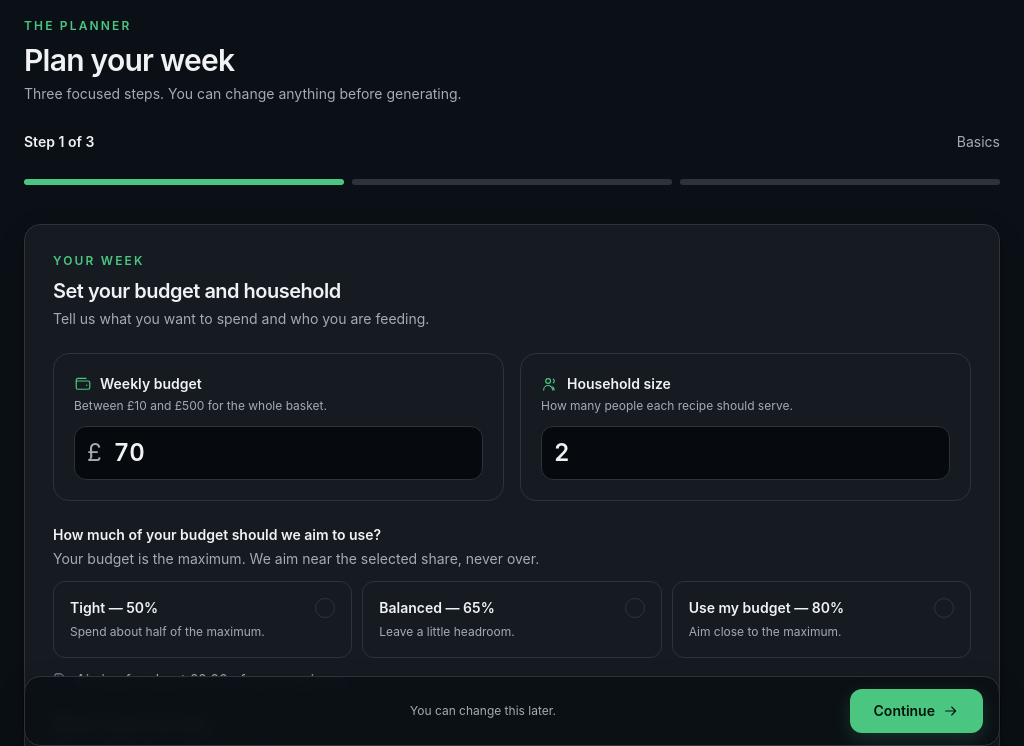
Test: App › explains a constraint conflict and offers the server's suggestions
Step 1. Click the button "Continue" → point(916, 711), box [850,689,983,733]
(page scrolled)
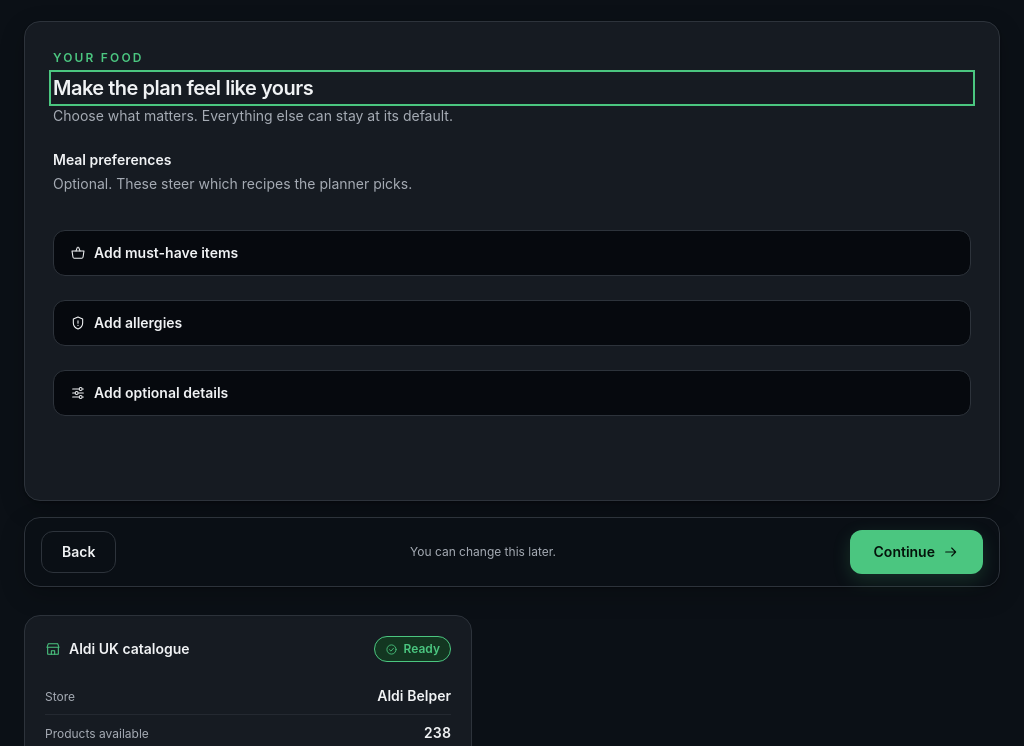
Step 2. Click the button "Continue" → point(916, 552), box [850,530,983,574]
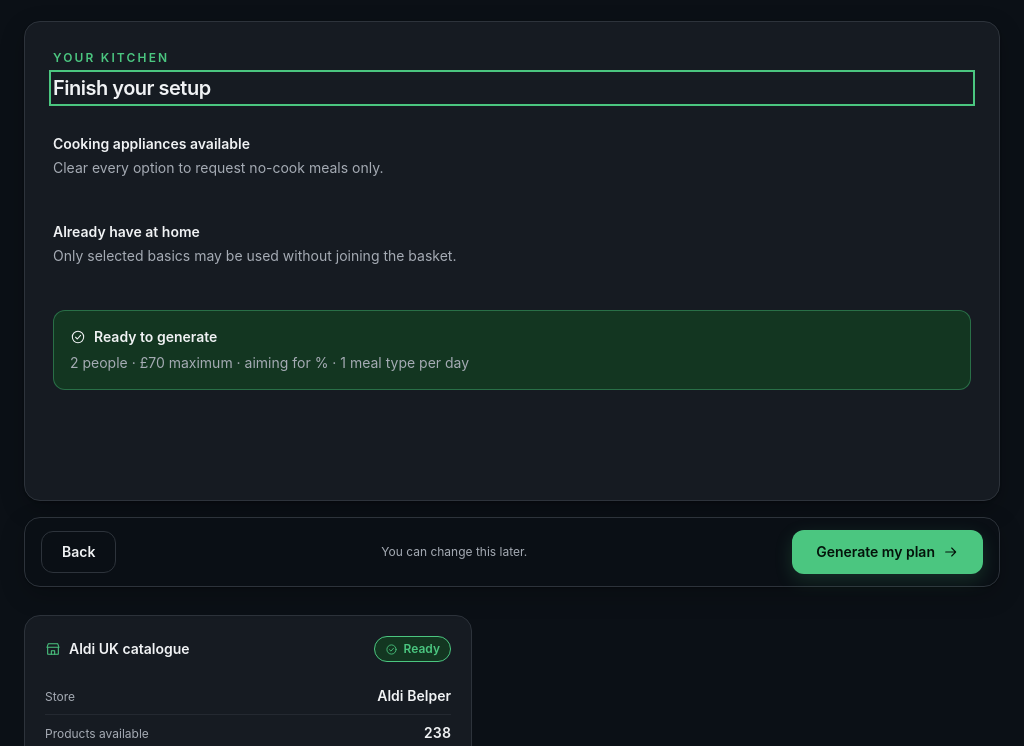
Step 3. Click the button "Generate my plan" → point(888, 552), box [792,530,983,574]
(page scrolled)
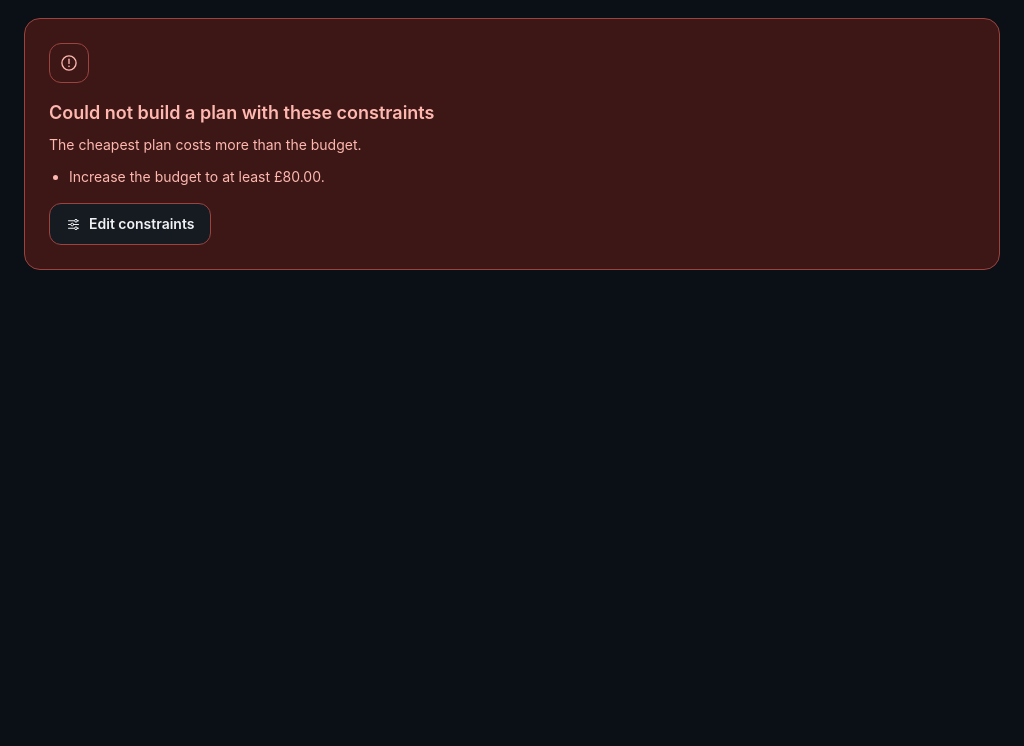
expect the message shows "Could not build a plan": met, box [49,102,434,123]
expect the message shows "increase the budget to at least": met, box [69,168,325,185]
